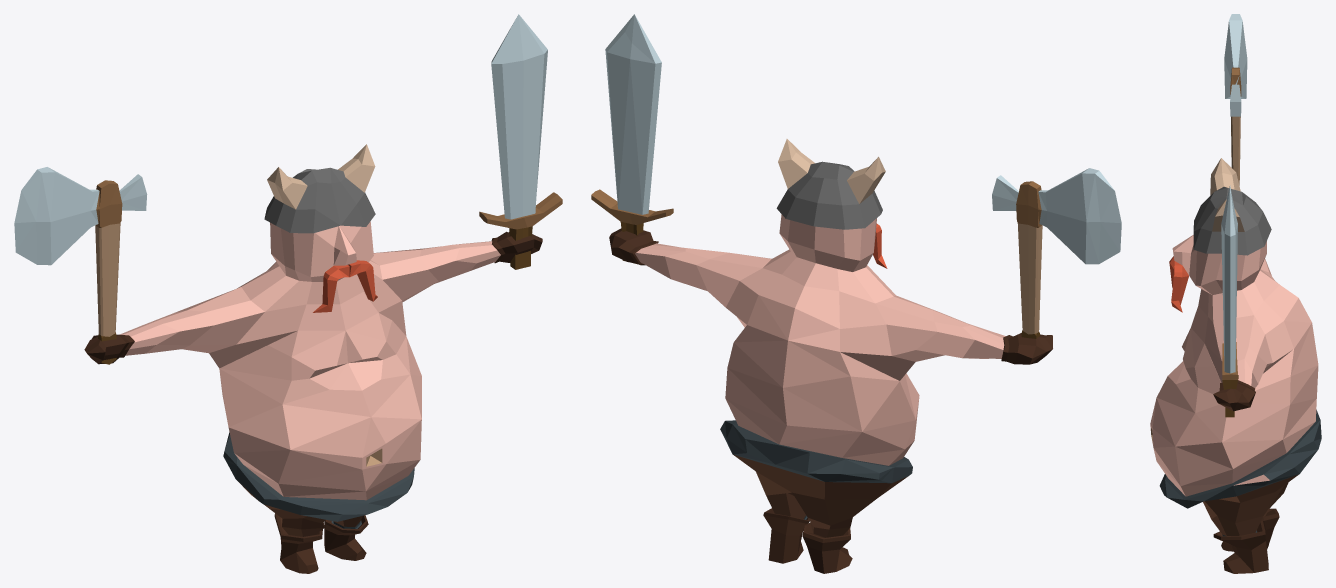
File: Hemburger.obj
3 views of the same model, side by side, from view 1: azimuth 30°, elevation 25°; view 2: azimuth 150°, elevation 25°; view 3: azimuth 270°, elevation 25° (orthographic). The views are drawn at different scales.
Parts seen in each view (by area): view 1: Cube; view 2: Cube; view 3: Cube.
Boxes of the visible parts, x1,y1,x2,y2 form: Cube: [14, 14, 562, 573]; Cube: [591, 14, 1121, 573]; Cube: [1150, 14, 1321, 573].
Size of the model in its own units: 4.61 by 4.11 by 1.4.
